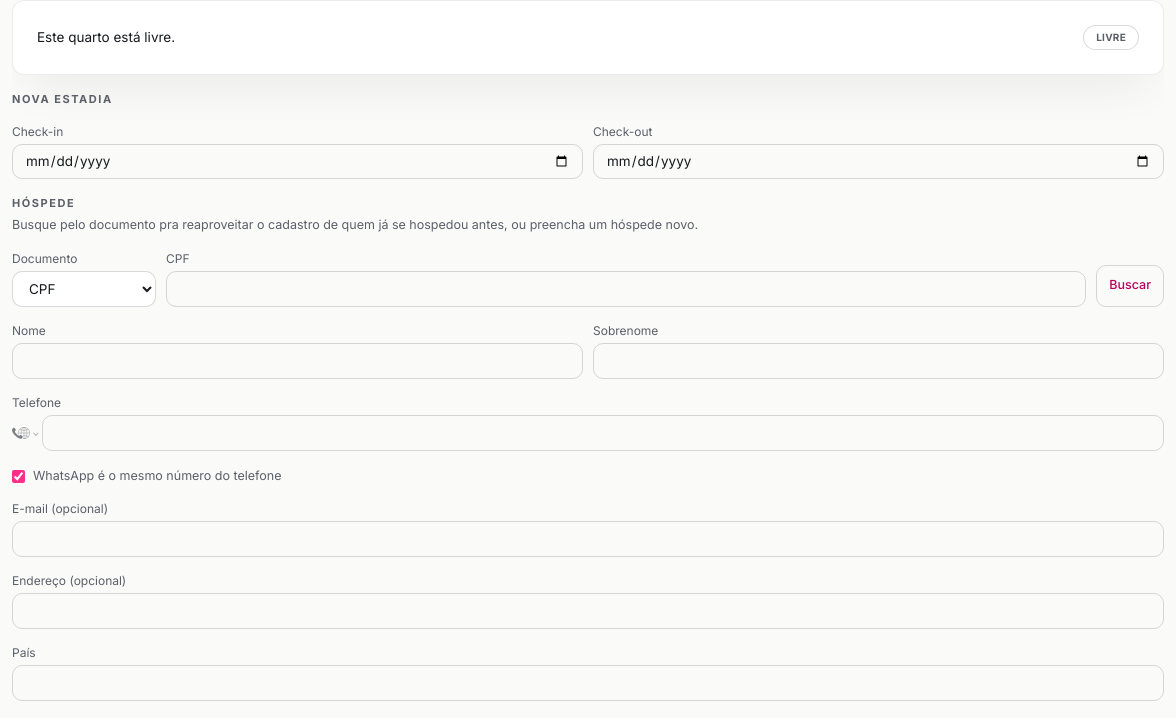
Scenario: OccupancyForm › shows the not-found banner when lookup finds nothing
The image size is (1176, 718).
Type "12345678900" into the field labelled "CPF".
click(626, 289); type("12345678900")  # box x1=166 y1=271 x2=1086 y2=307
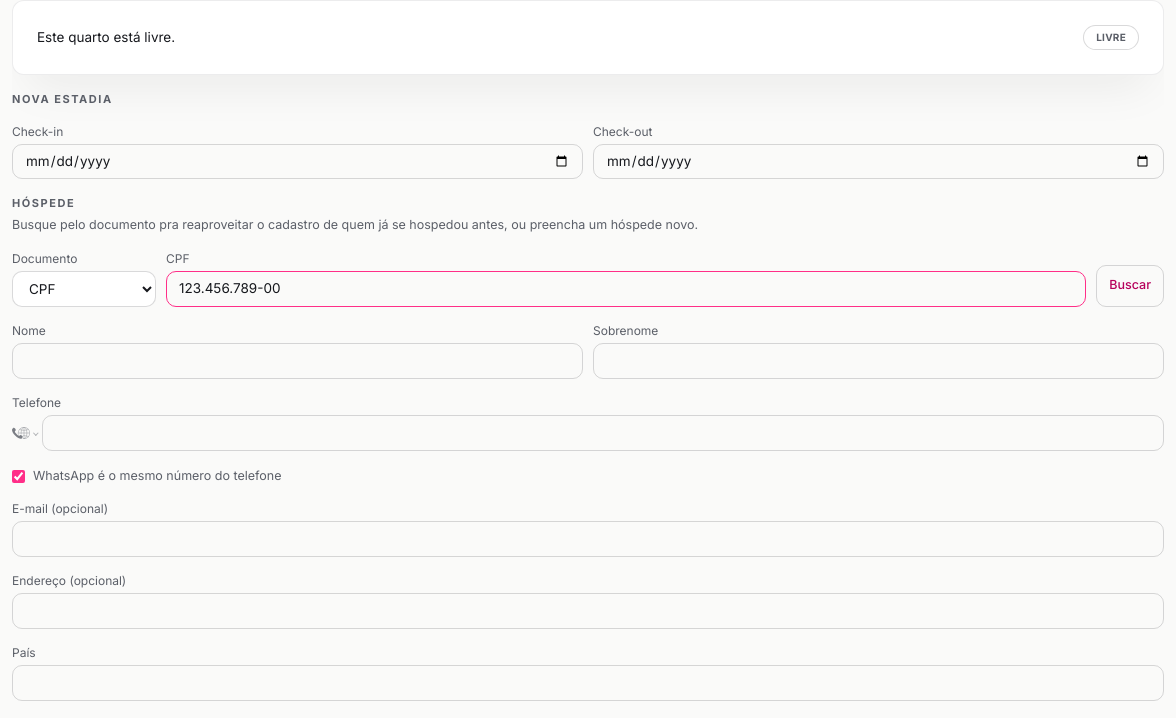
Click the button "Buscar".
click(1130, 286)  # box x1=1096 y1=265 x2=1164 y2=307
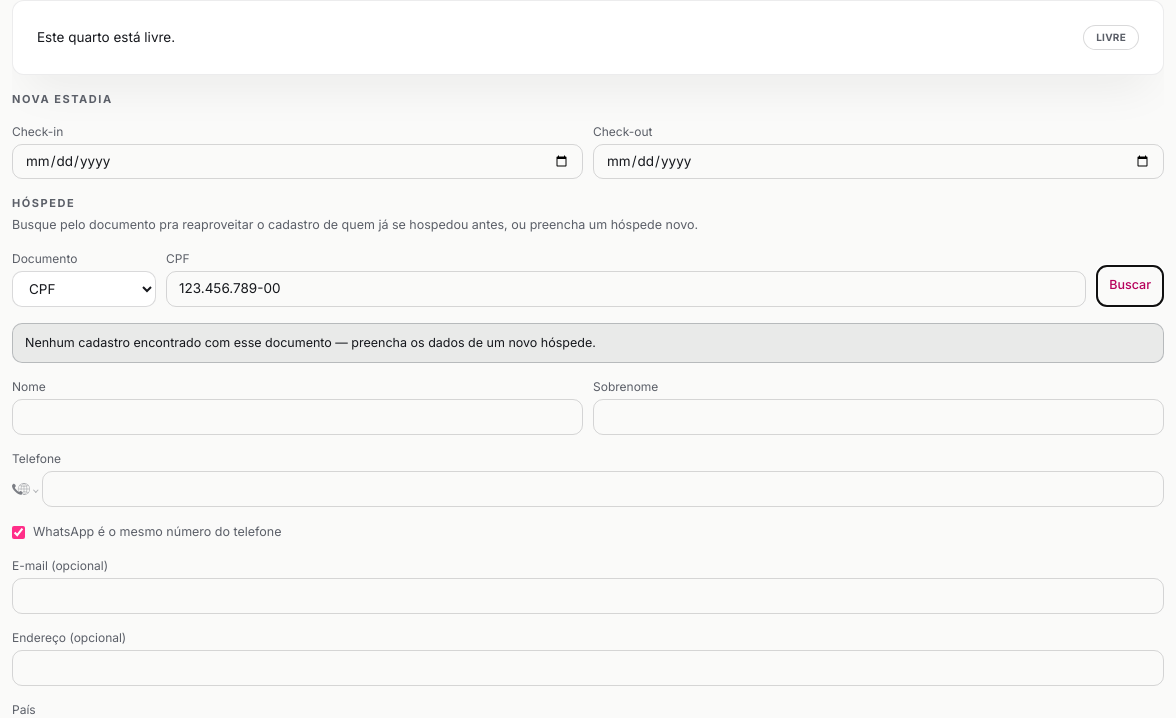
Expected: the text "Nenhum cadastro encontrado com esse documento" is shown, x1=25 y1=335 x2=596 y2=350
